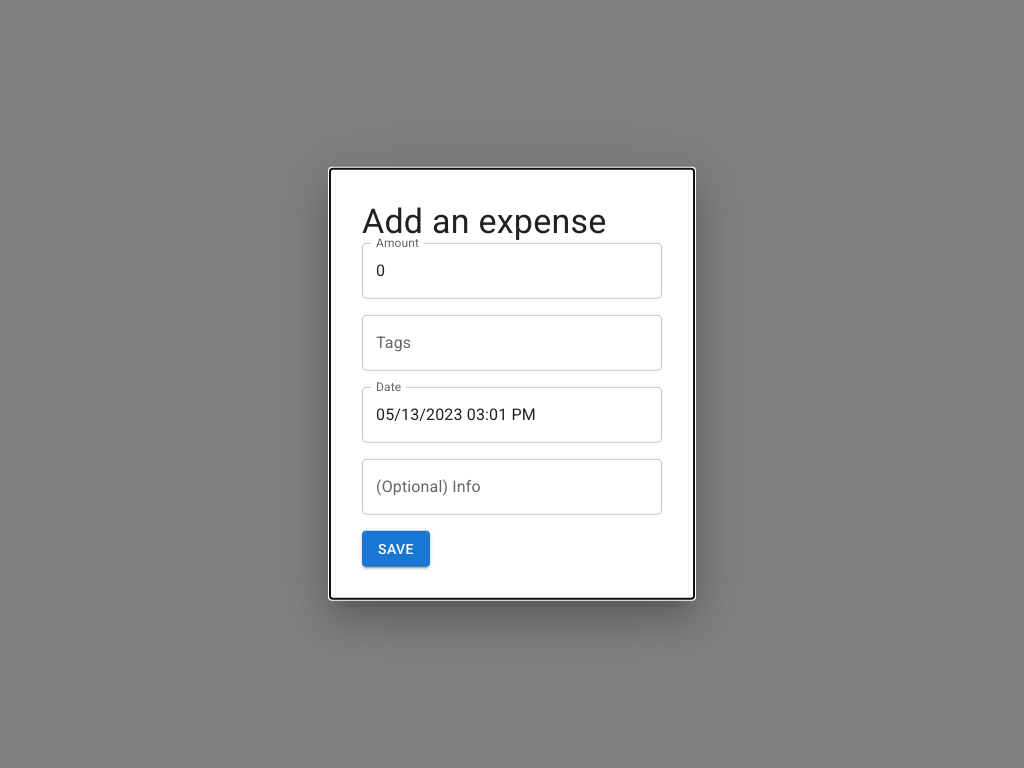
Test: components/IncomeExpenseModal › renders open and validates input for expense
Expected: the heading "Add an expense" is shown, [362,201,606,241]
Expected: the button "Save" is shown, [362,531,430,567]
Type "ASD" into the field labelled "Amount".
click(512, 271); type("ASD")  # box [362,243,662,299]
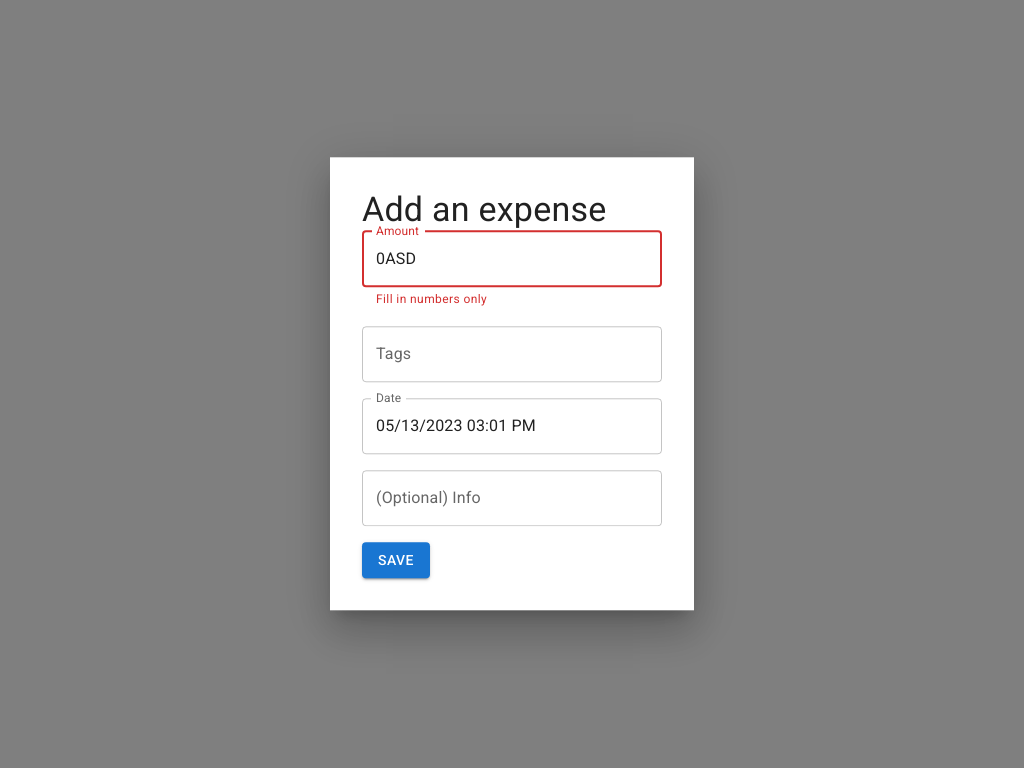
Now the text "Fill in numbers only" is shown, box [376,292,487,306]
Clear the field labelled "Amount" at [512, 259], box [362,231,662,287]
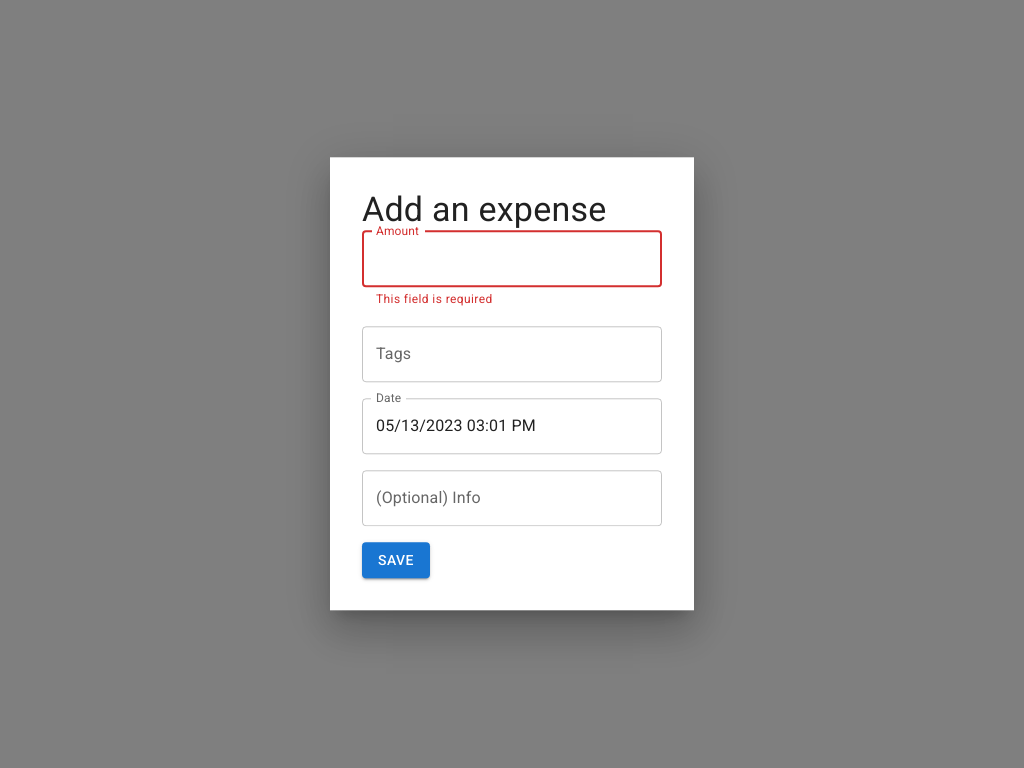
Now the text "This field is required" is shown, box [376,292,493,306]
